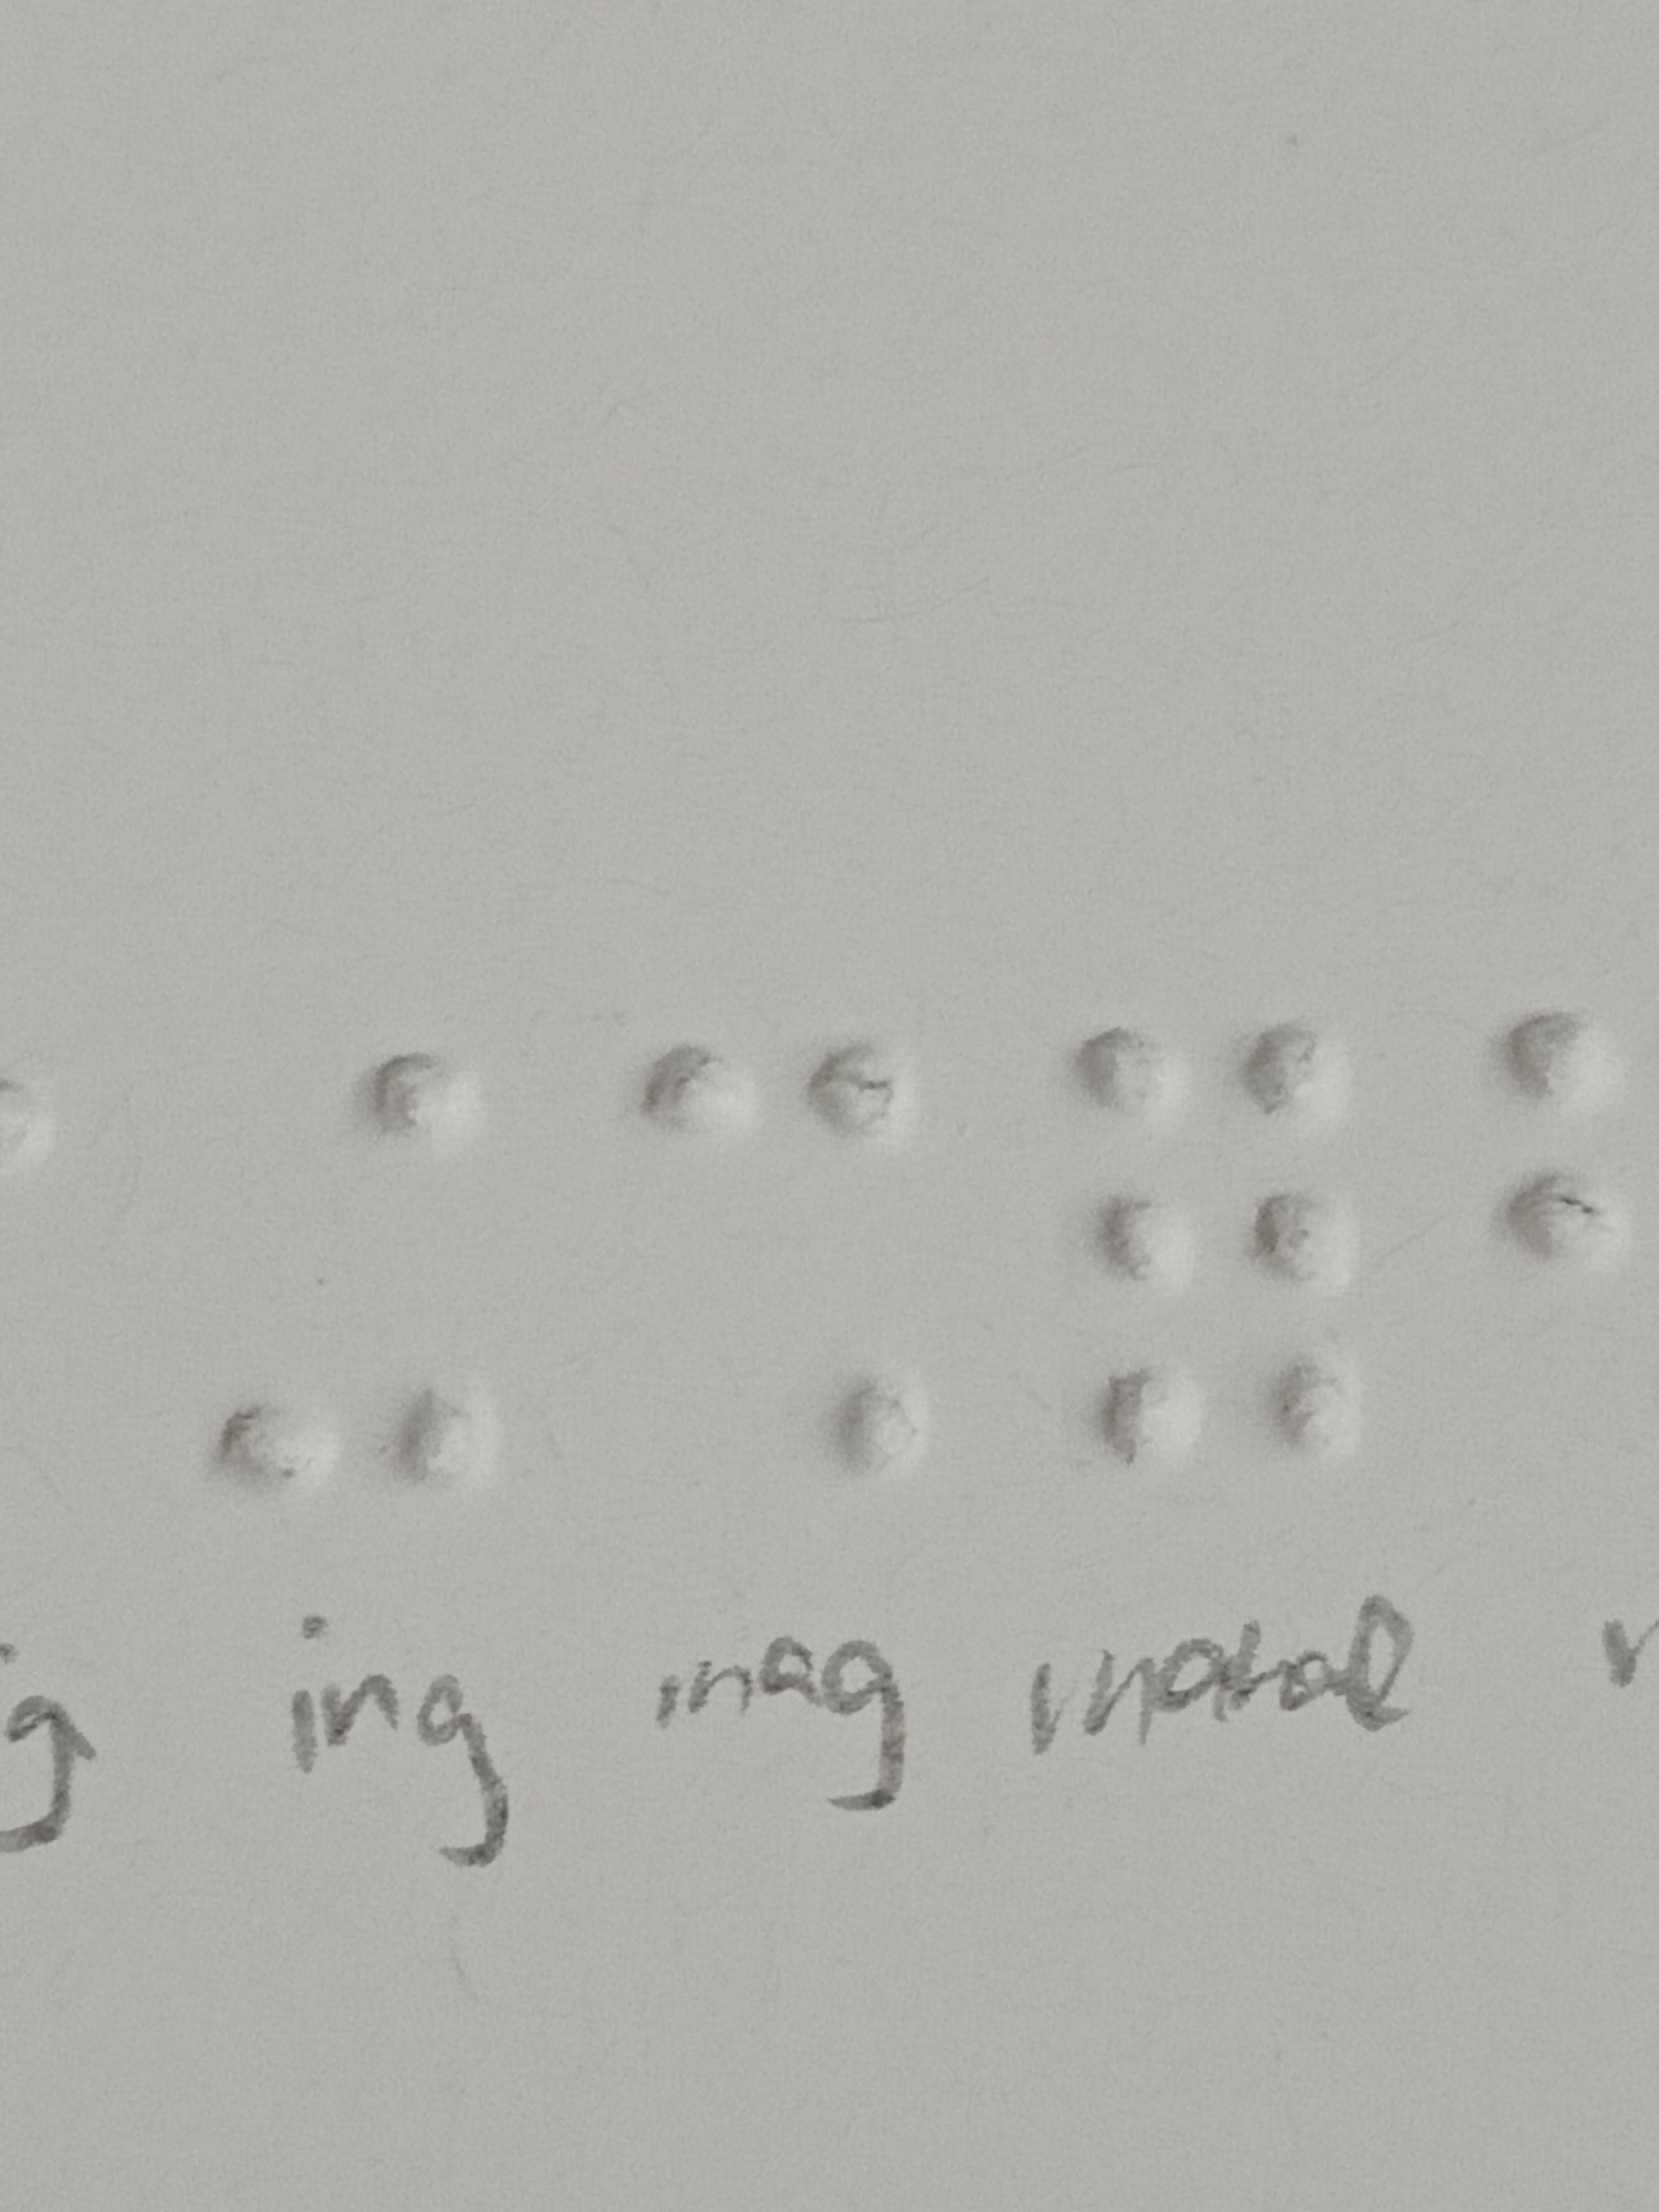one_cell_part_word_ing: (216, 1042, 500, 1494)
one_cell_part_word_mag: (647, 1042, 929, 1494)
one_cell_part_word_mahal: (1079, 1019, 1363, 1472)
